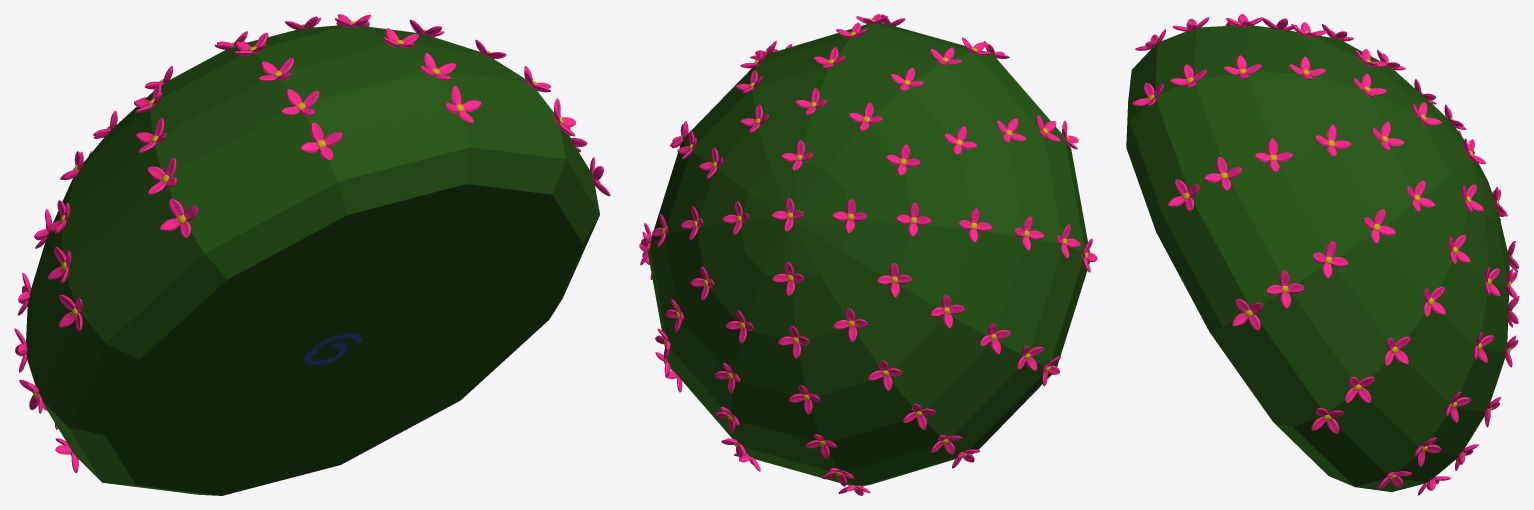
Rendered from Cactus_Bulb_001.fbx.
The picture shows the model from 3 angles, left to right: view 1: azimuth 30°, elevation 25°; view 2: azimuth 150°, elevation 25°; view 3: azimuth 270°, elevation 25°; orthographic projection. The views are drawn at different scales.
Visible parts, largest first — view 1: node_id8 (×3); view 2: node_id8 (×3); view 3: node_id8 (×3).
Part boxes in pixels (x1=…): node_id8 (×3): x1=14, y1=14, x2=610, y2=495; node_id8 (×3): x1=639, y1=14, x2=1097, y2=495; node_id8 (×3): x1=1126, y1=14, x2=1519, y2=495.
Bounding box in the file's own units: 0.5047 × 0.4507 × 0.3766.
3 materials, 1 textured.
